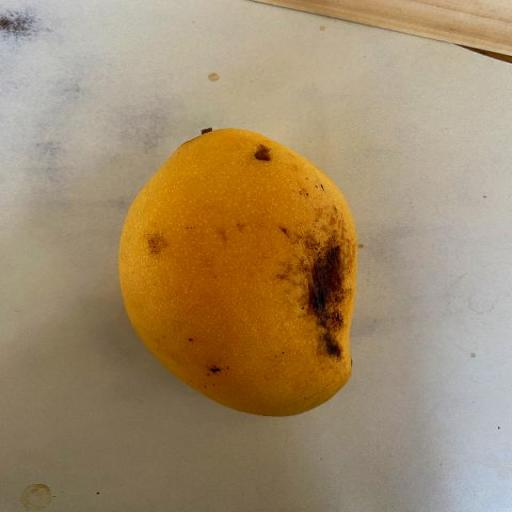mango-overripe: (87, 97, 377, 412)
